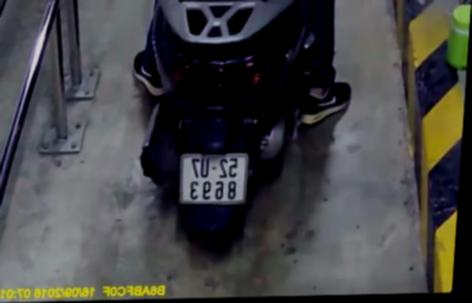License_Plate: (170, 147, 257, 214)
